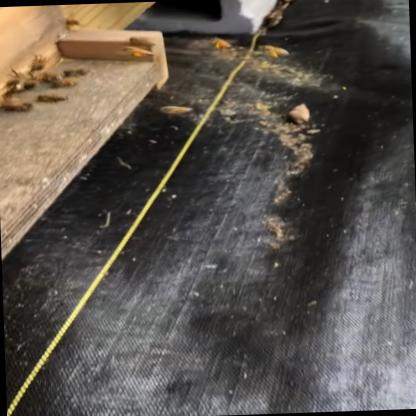bee: (0, 44, 99, 134), (206, 26, 256, 57), (247, 34, 290, 60)
